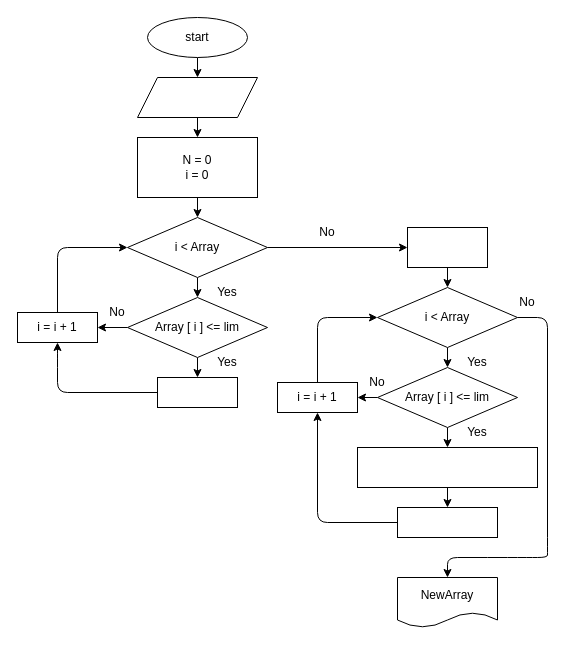
This 575x645 diagram has some shape labels left out. Here are the shapes that lost their labels. From the top down, the centre of each, then its label:
At point 197,97: "lim = 3".
At point 447,247: "temp = 0 i = 0".
At point 197,392: "N = N + 1".
At point 447,467: "NewArray [ temp] = Array [ i ]".
At point 447,522: "temp = temp +1".
